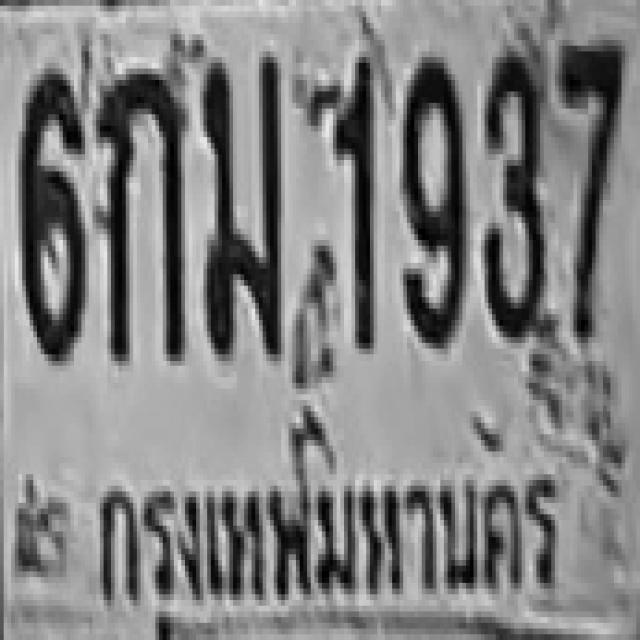10GorGai: (96, 63, 185, 360)
3: (481, 49, 547, 340)
42MorMa: (200, 52, 281, 354)
6: (17, 63, 83, 360)
7: (557, 37, 623, 340)
9: (400, 52, 466, 348)
Bangkok: (80, 443, 568, 640)
